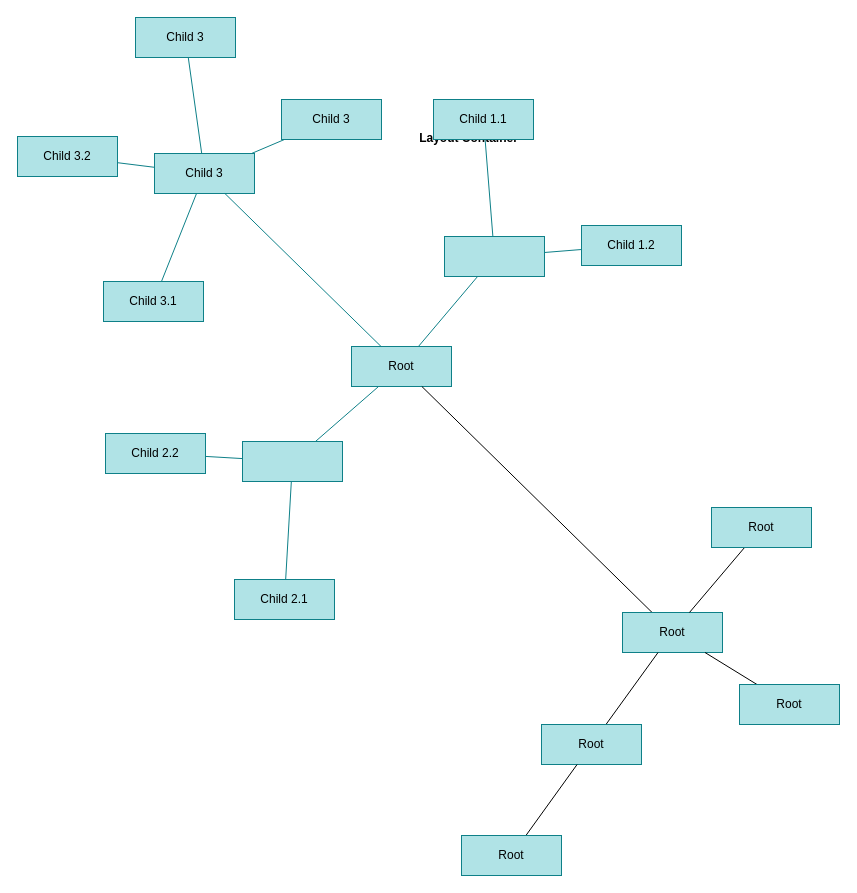
This 857x893 diagram has some shape labels left out. The centre of each missing label's shape, as x and y in pixels:
Child 1: (494,256)
Child 2: (292,461)
